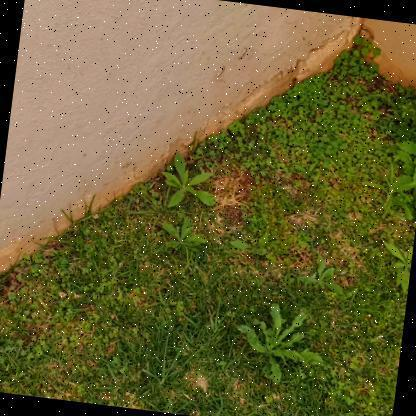Weeds: (228, 296, 328, 390), (157, 150, 221, 217), (366, 72, 415, 146), (360, 161, 415, 216), (371, 237, 413, 299), (153, 214, 211, 258), (296, 249, 346, 298), (387, 134, 415, 206), (226, 229, 270, 257)
